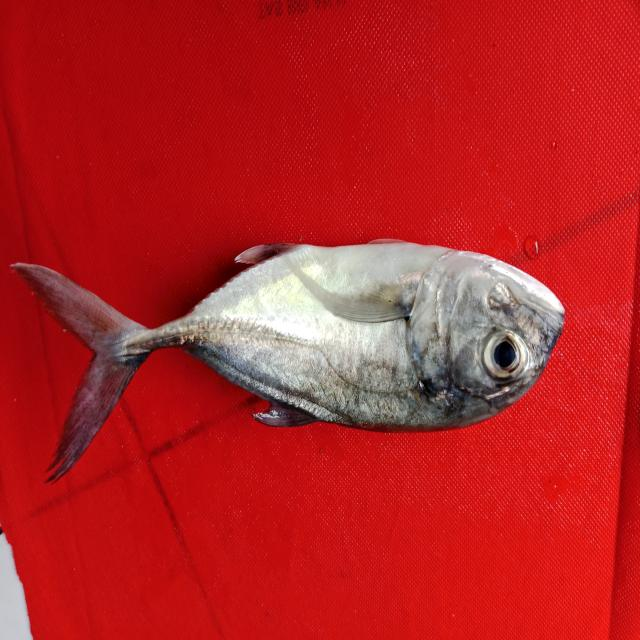ikan: (6, 213, 587, 504)
